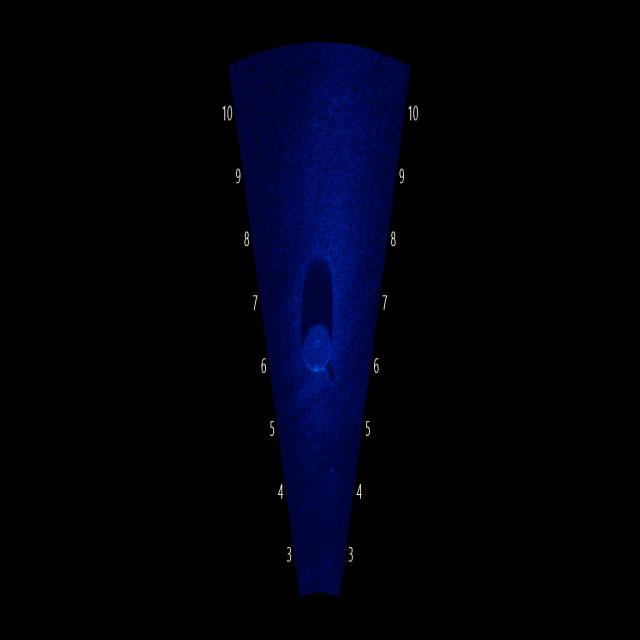circle: (298, 310, 336, 386)
